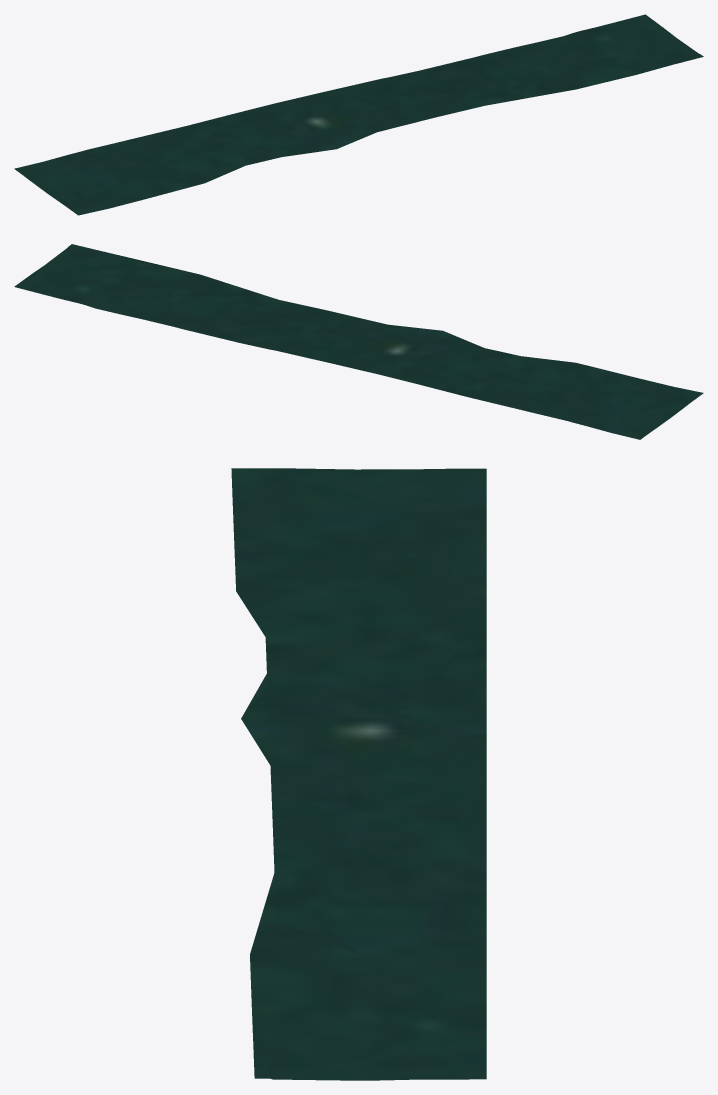
3 renders of one model, top to bottom at view 1: azimuth 30°, elevation 25°; view 2: azimuth 150°, elevation 25°; view 3: azimuth 270°, elevation 25°, orthographic. The views are drawn at different scales.
Bounding box in the file's own units: 52.22 × 0.2547 × 9.21.
Materials: 1 (1 with a texture image).
